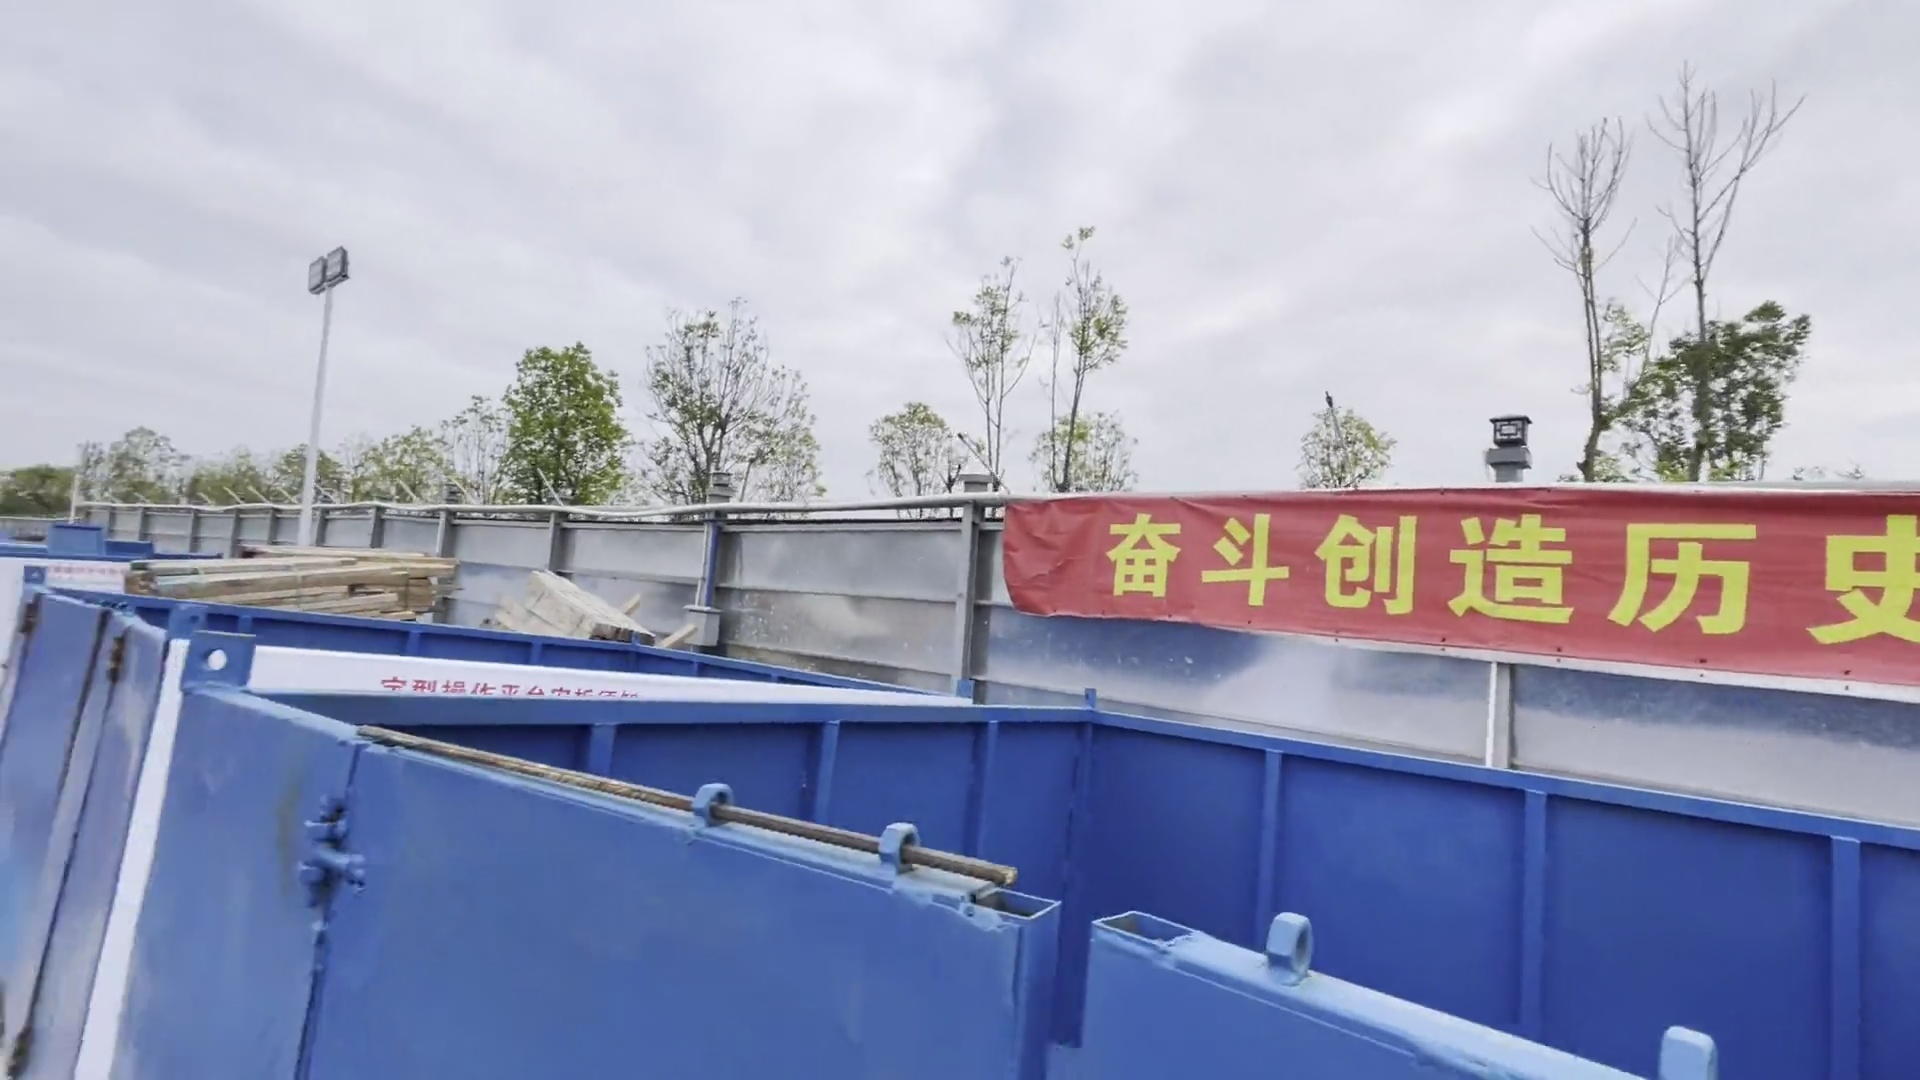slogan: (1006, 460, 1917, 708)
